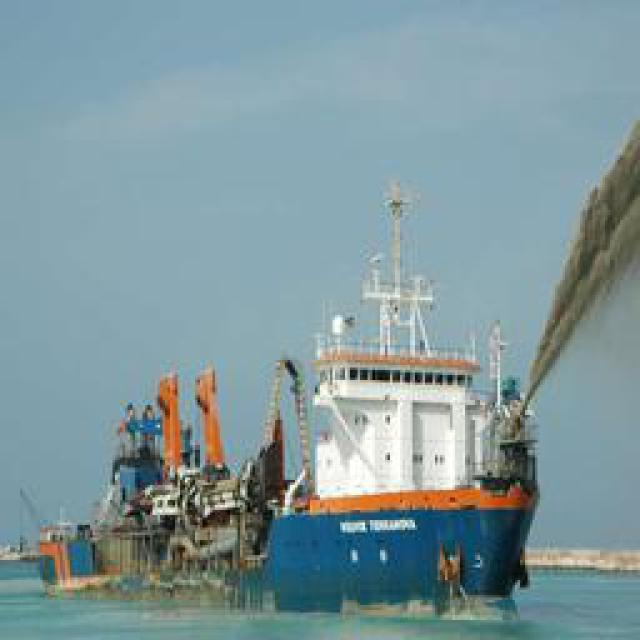Ship: (37, 201, 539, 629)
